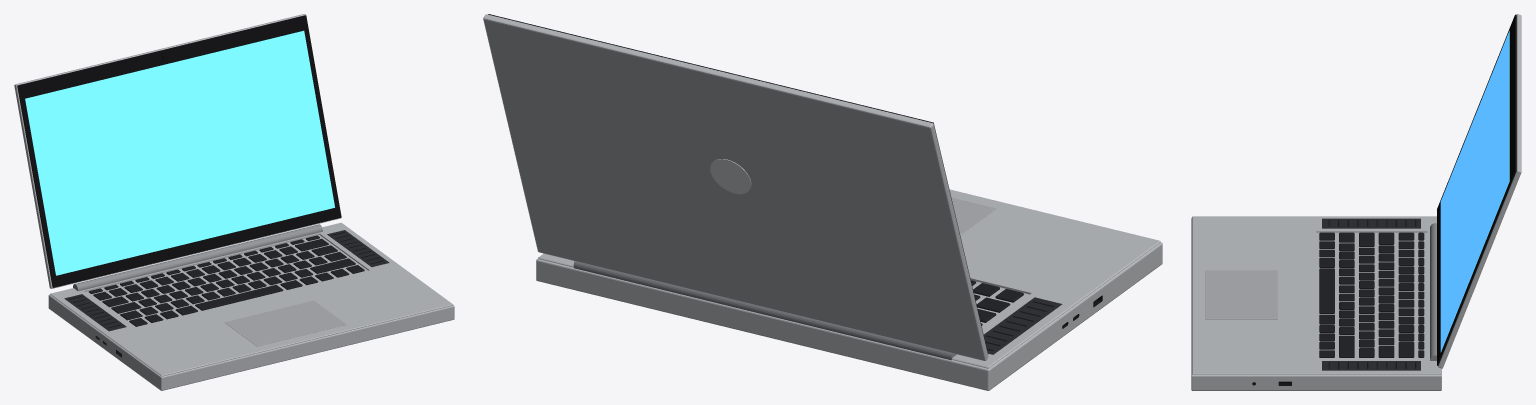
Rendered from pc-portable-ouvert.glb.
3 renders of one model, left to right at view 1: azimuth 30°, elevation 25°; view 2: azimuth 150°, elevation 25°; view 3: azimuth 270°, elevation 25°, orthographic. The views are drawn at different scales.
Visible parts, largest first — view 1: pc-portable-ouvert; view 2: pc-portable-ouvert; view 3: pc-portable-ouvert.
Boxes of the visible parts, x1,y1,x2,y2 form: pc-portable-ouvert: [14, 14, 454, 390]; pc-portable-ouvert: [483, 14, 1162, 390]; pc-portable-ouvert: [1191, 14, 1521, 390].
Bounding box in the file's own units: 0.36 × 0.2344 × 0.3163.
